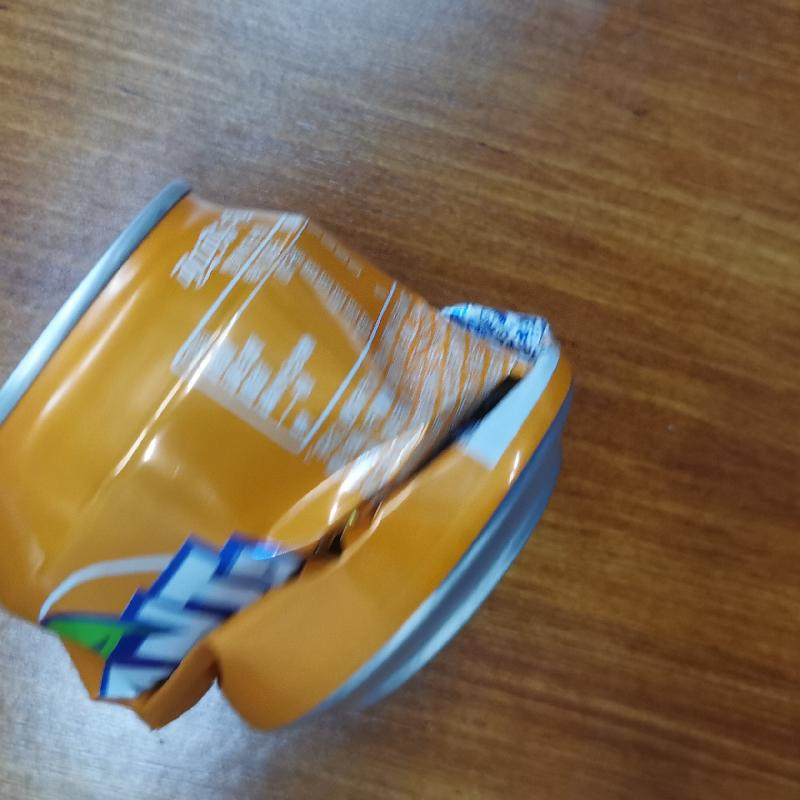cans: (4, 175, 577, 736)
